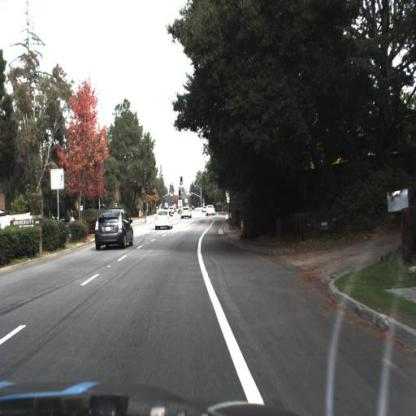car: (93, 204, 137, 258), (153, 206, 173, 232), (202, 199, 218, 221), (176, 201, 190, 222)
trafficLight-Green: (178, 173, 184, 187), (178, 176, 184, 190)
trafficLight-Red: (142, 193, 147, 211), (176, 184, 182, 198)
trafficLight-RedLeft: (142, 197, 149, 214)
